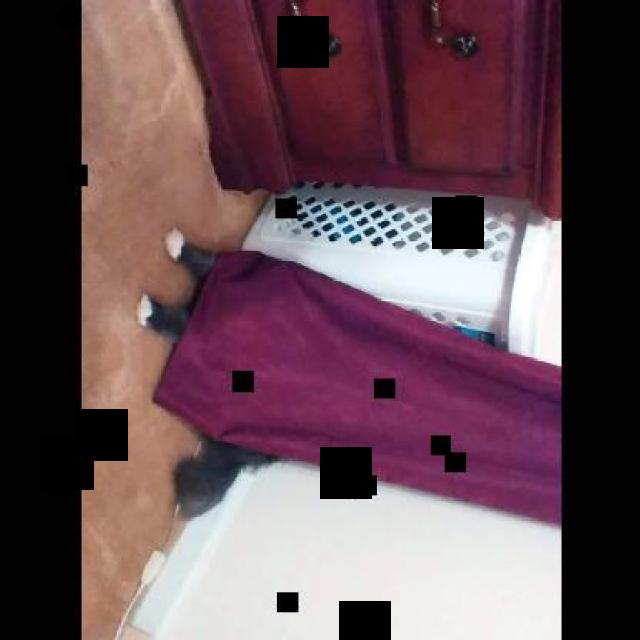unauthorized: (136, 226, 278, 520)
